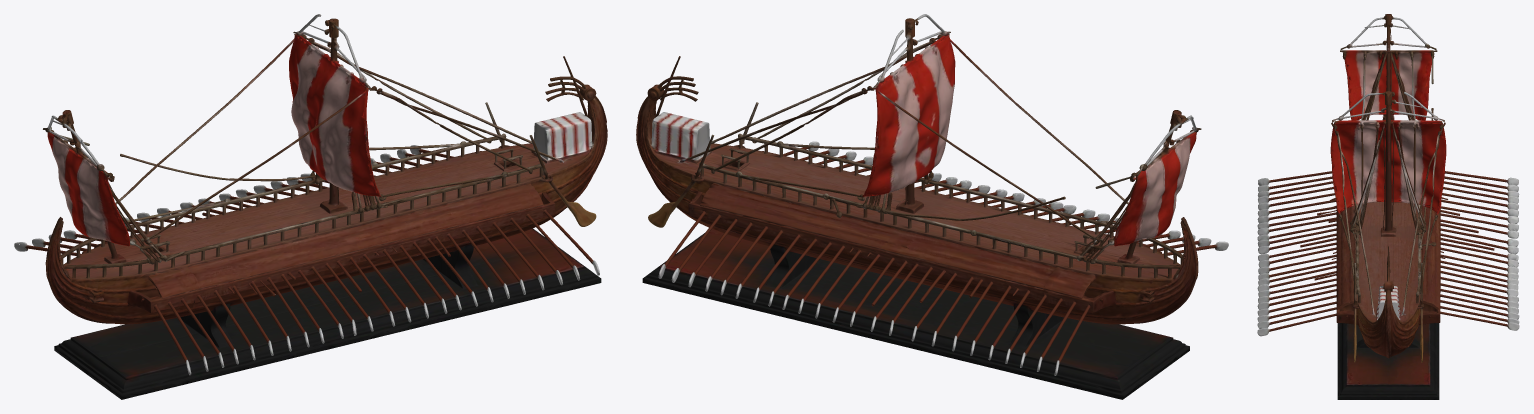
Rendered from Greek_Bireme.min.glb.
3 views of the same model, side by side, from view 1: azimuth 30°, elevation 25°; view 2: azimuth 150°, elevation 25°; view 3: azimuth 270°, elevation 25° (orthographic). The views are drawn at different scales.
Visible parts, largest first — view 1: tripo_node_e91e8c4e-8b98-439a-ab5e-e784b5dec4db; view 2: tripo_node_e91e8c4e-8b98-439a-ab5e-e784b5dec4db; view 3: tripo_node_e91e8c4e-8b98-439a-ab5e-e784b5dec4db.
Boxes of the visible parts, left/top/right/bottom form: tripo_node_e91e8c4e-8b98-439a-ab5e-e784b5dec4db: left=14, top=14, right=607, bottom=399; tripo_node_e91e8c4e-8b98-439a-ab5e-e784b5dec4db: left=636, top=14, right=1228, bottom=399; tripo_node_e91e8c4e-8b98-439a-ab5e-e784b5dec4db: left=1257, top=14, right=1519, bottom=399.
Size of the model in its own units: 0.9798 by 0.492 by 0.5267.
1 material, 1 textured.
